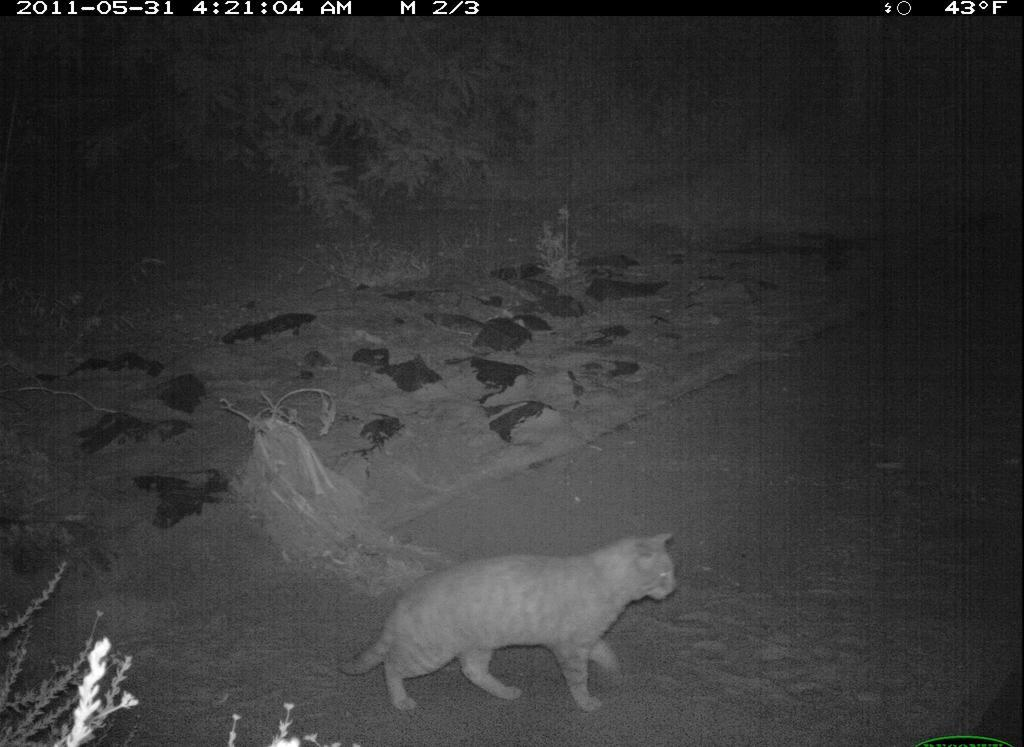cat: (329, 524, 707, 722)
